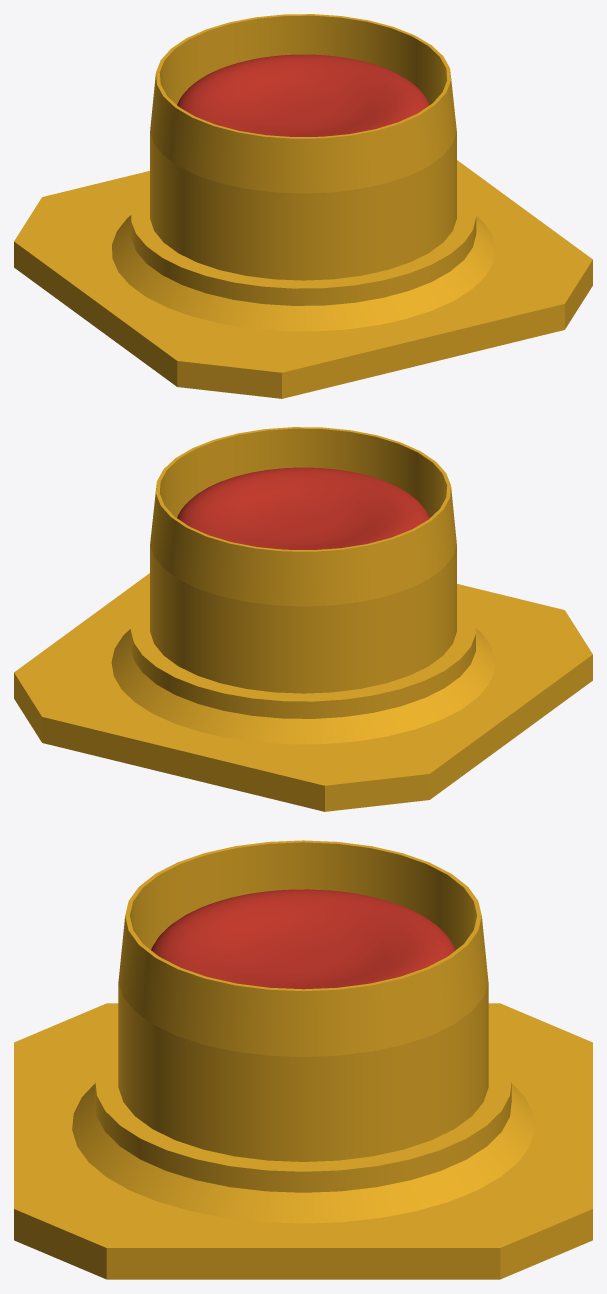
The model's file is emg-button-ylrd.obj.
3 renders of one model, top to bottom at view 1: azimuth 30°, elevation 25°; view 2: azimuth 150°, elevation 25°; view 3: azimuth 270°, elevation 25°, orthographic. The views are drawn at different scales.
Parts seen in each view (by area): view 1: Body1, Handle; view 2: Body1, Handle; view 3: Body1, Handle.
Part boxes in pixels (bbox=[...]): Body1: bbox=[14, 14, 592, 398]; Handle: bbox=[177, 54, 429, 136]; Body1: bbox=[14, 427, 592, 811]; Handle: bbox=[177, 467, 429, 549]; Body1: bbox=[14, 840, 592, 1279]; Handle: bbox=[151, 889, 455, 989].
Size of the model in its own units: 5 by 2.3 by 5.
